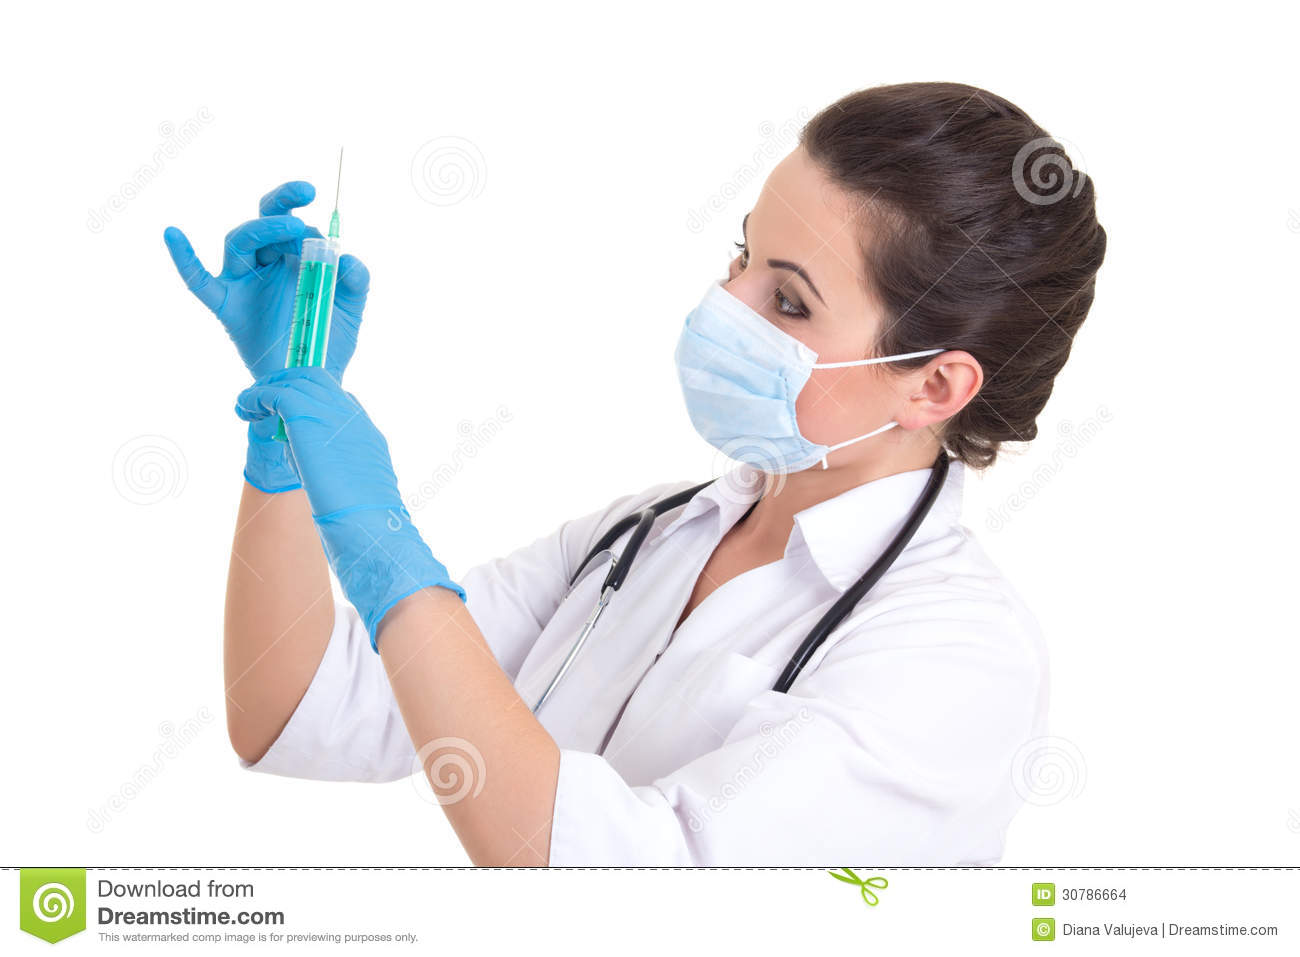mask: (678, 287, 835, 477)
